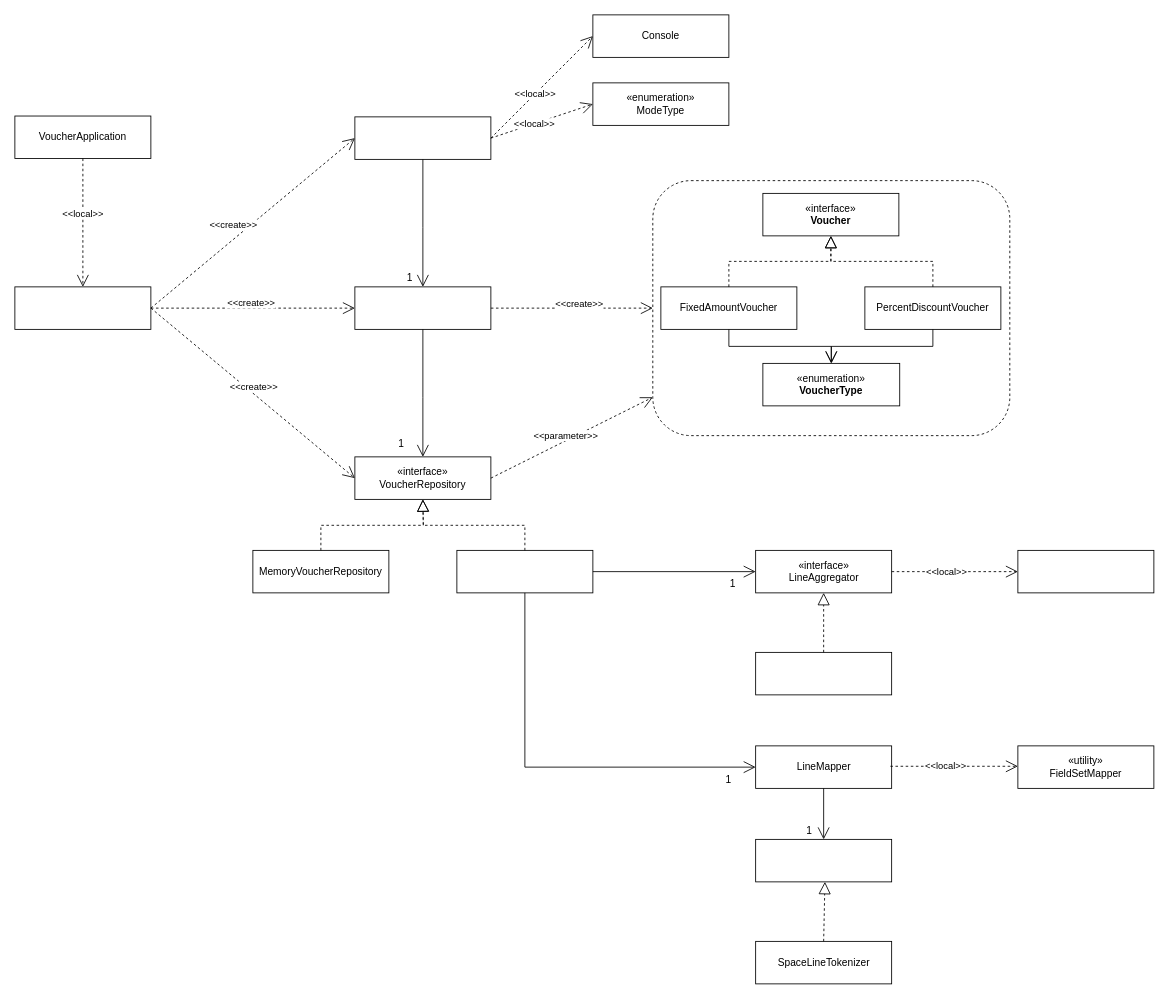
Image size: 1169x999. Some labels were removed from this diagram. Here are the shapes that lost their labels. From the top down, the box of each, then its label:
(354, 116, 491, 159): CommandLineApplication
(14, 286, 151, 329): AppConfiguration
(354, 286, 491, 329): VoucherService
(456, 550, 593, 593): FileVoucherRepository
(1017, 550, 1154, 593): «utility» FieldExtractor
(755, 652, 892, 695): SpaceLineAggregator
(755, 839, 892, 882): «interface» LineTokenizer
